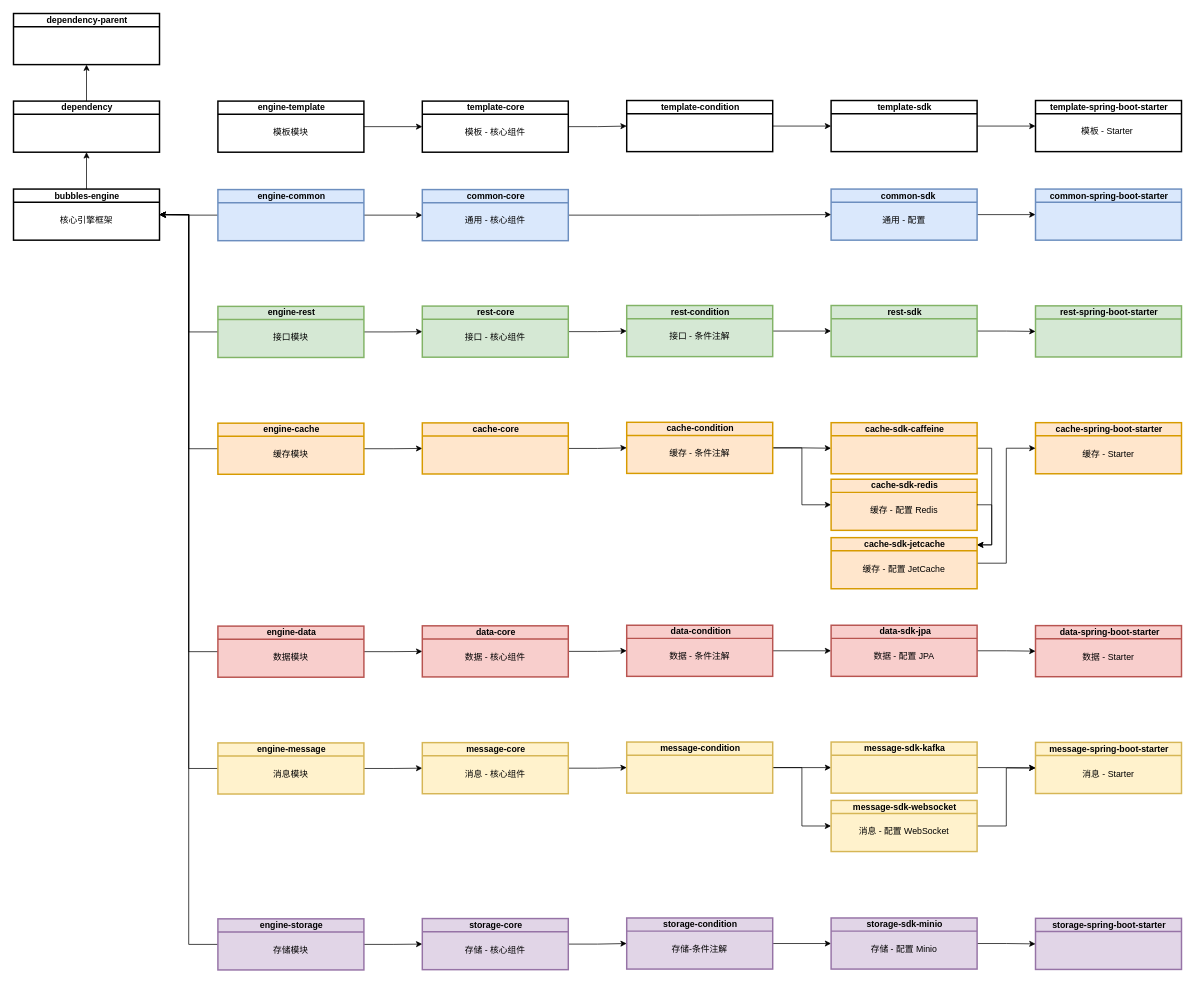
Some shapes in this 1194 by 983 pixel diagram are drawn without their labels. Here are the shapes that lost their labels. From the top down, the box of each, then its label:
(12, 12, 160, 65): 引入第三方版本依赖管理pom
(12, 100, 160, 153): 自定义版本依赖管理
(626, 99, 773, 152): 模板 - 条件注解
(830, 99, 977, 152): 模板 - 配置
(217, 188, 364, 241): 通用模块
(1034, 188, 1182, 241): 通用 - Starter
(830, 304, 977, 357): 接口 - 配置
(1034, 305, 1182, 357): 接口 - Starter
(421, 422, 569, 474): 缓存 - 核心组件
(830, 422, 977, 474): 缓存 - 配置 Caffeine
(626, 741, 773, 794): 消息-条件注解
(830, 741, 977, 794): 消息 - 配置 Kafka
(1034, 917, 1182, 970): 存储 - Starter
